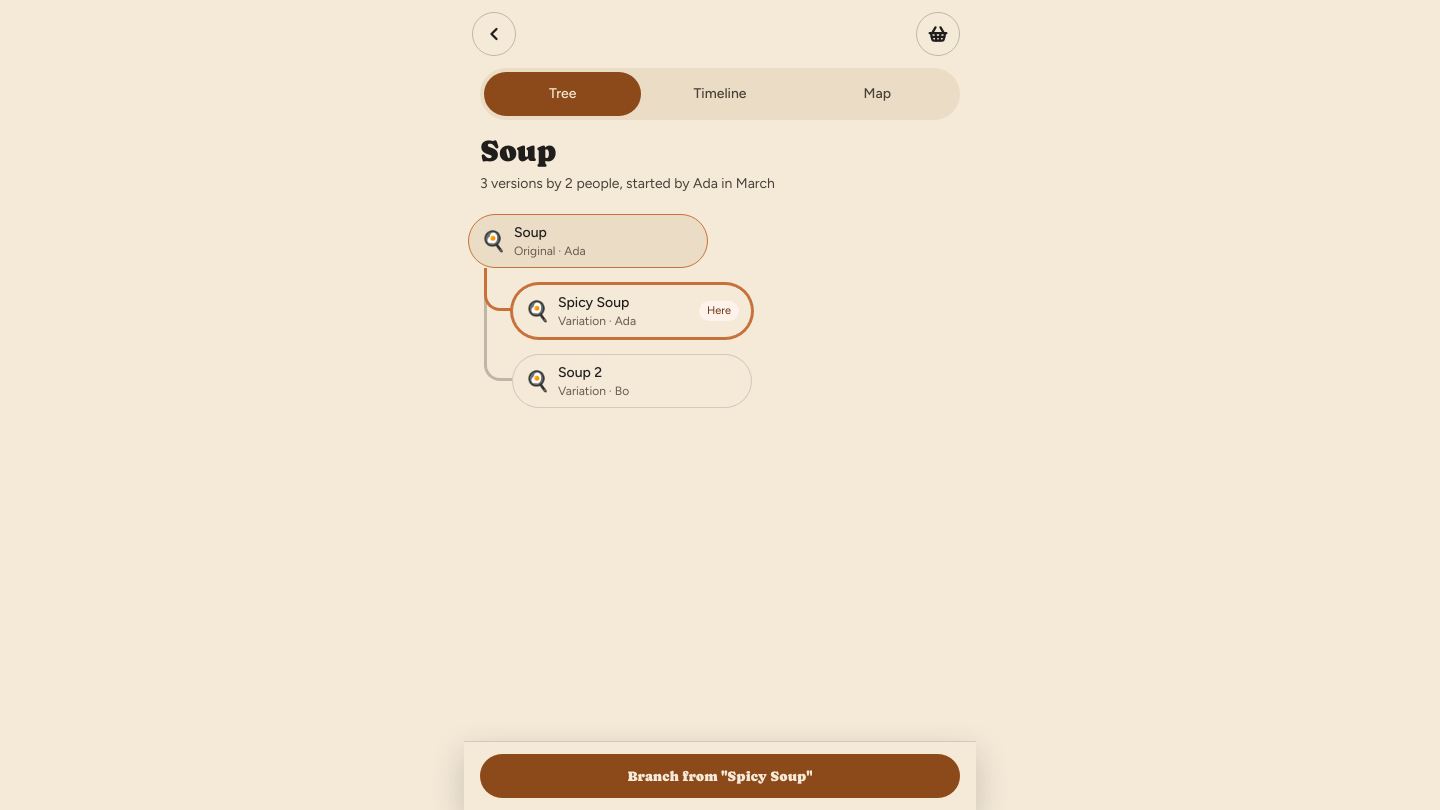
VersionTreePage › adds the version the user is on from the header button and toasts the count
The image size is (1440, 810).
What coordinates should you click on to do the following:
click the button named "Add to shopping list"
I would click on:
 (938, 34)
Its box is [916,12,960,56].
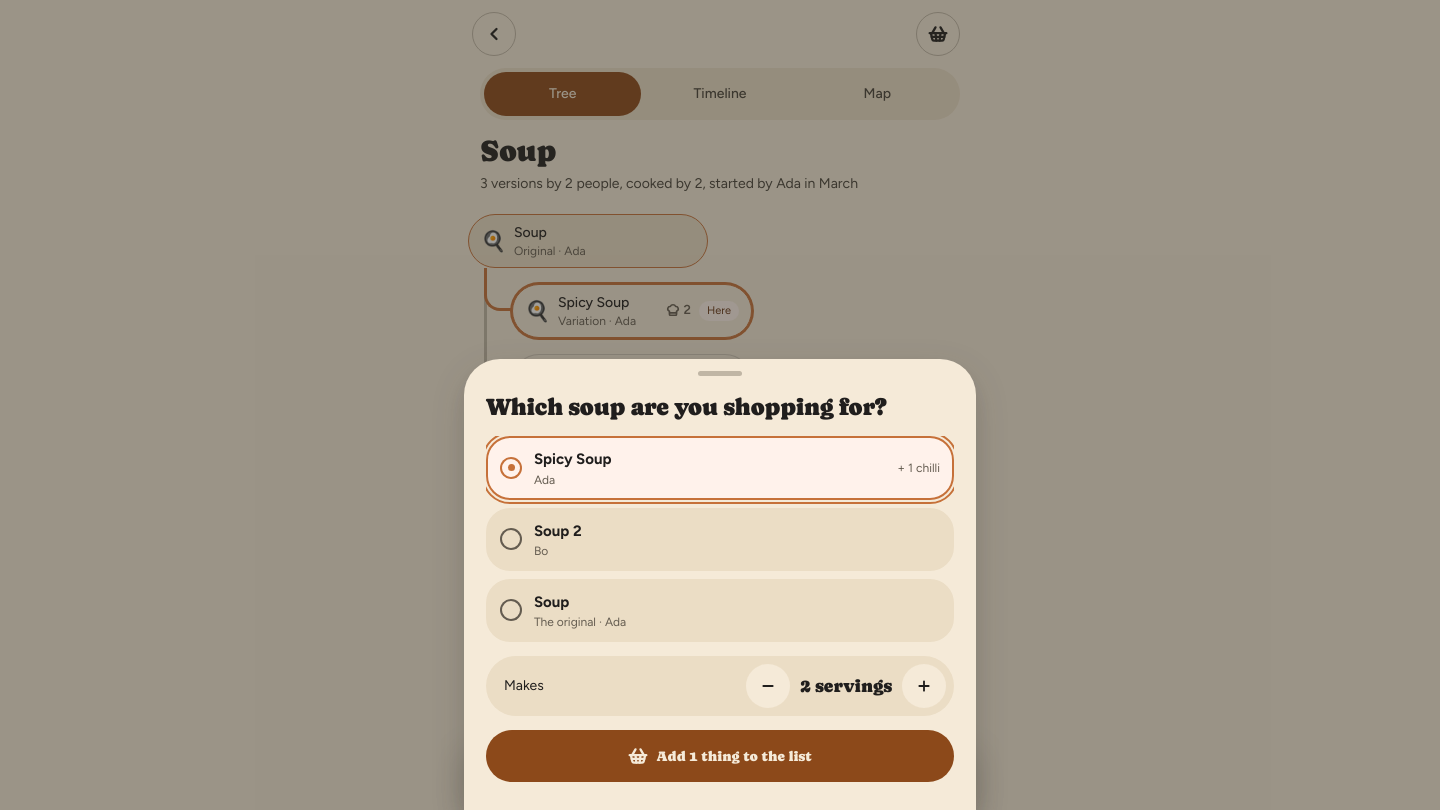
What coordinates should you click on to do the following:
click the button "Add 1 thing to the list"
I would click on:
 (720, 756)
Its box is [486,730,954,782].
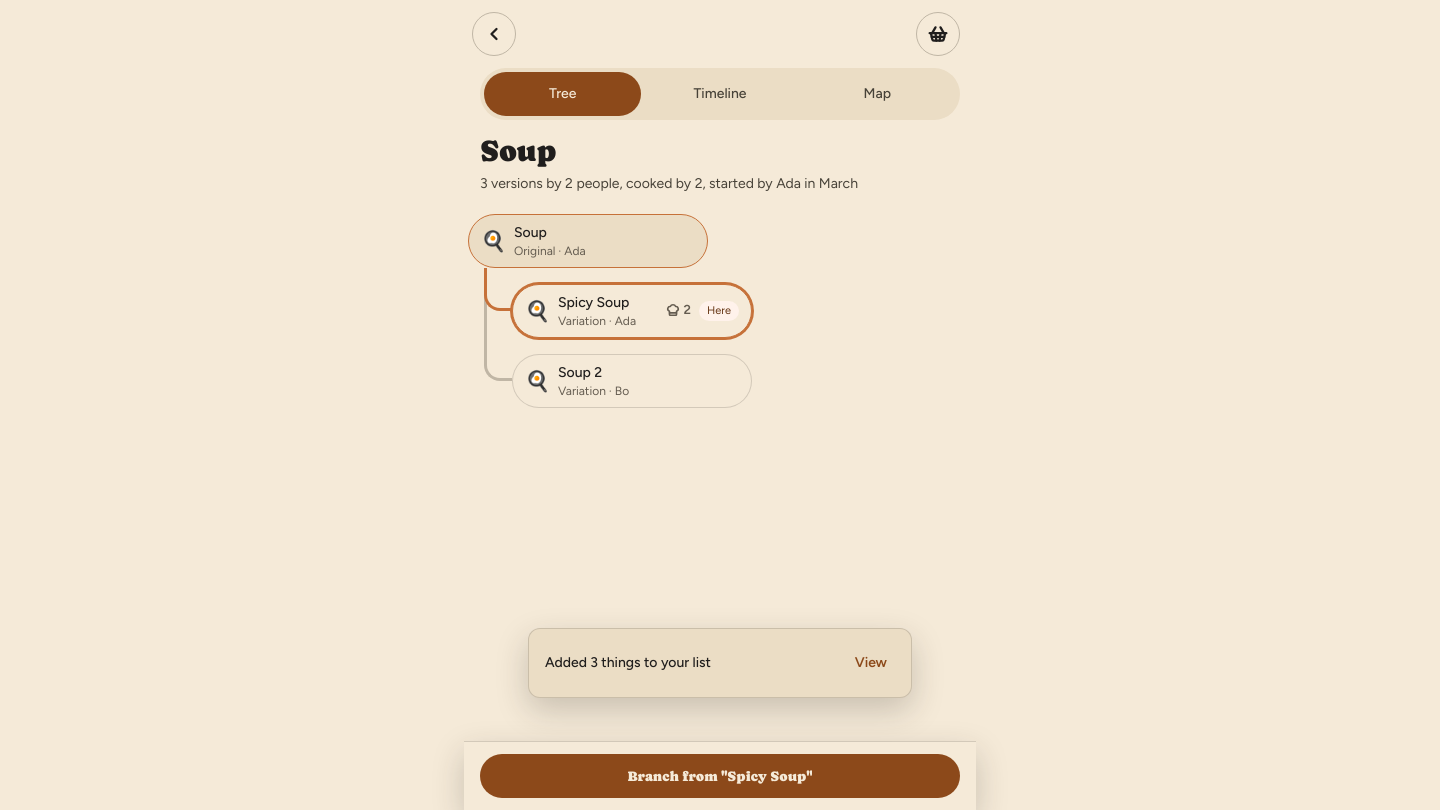
Result: the text "Added 3 things to your list" is shown at [545,653,711,673]
